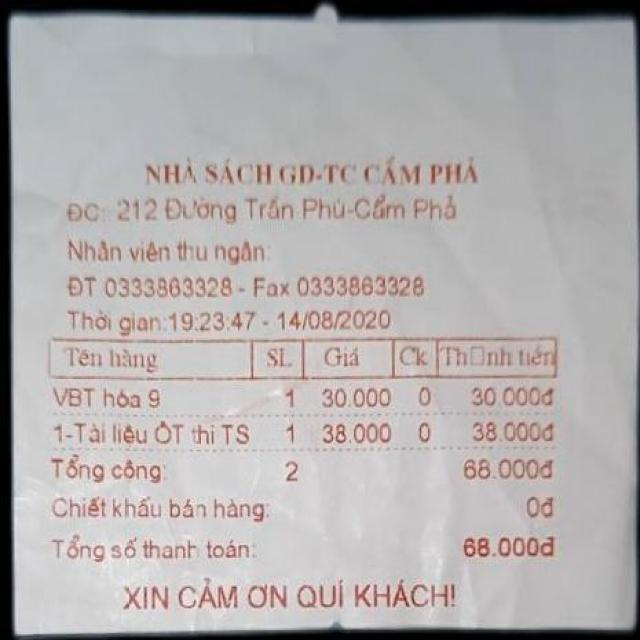Date: (279, 306, 399, 334)
Store_Name: (140, 156, 493, 192)
amount_number: (461, 530, 540, 564)
label_total: (47, 533, 249, 563)
